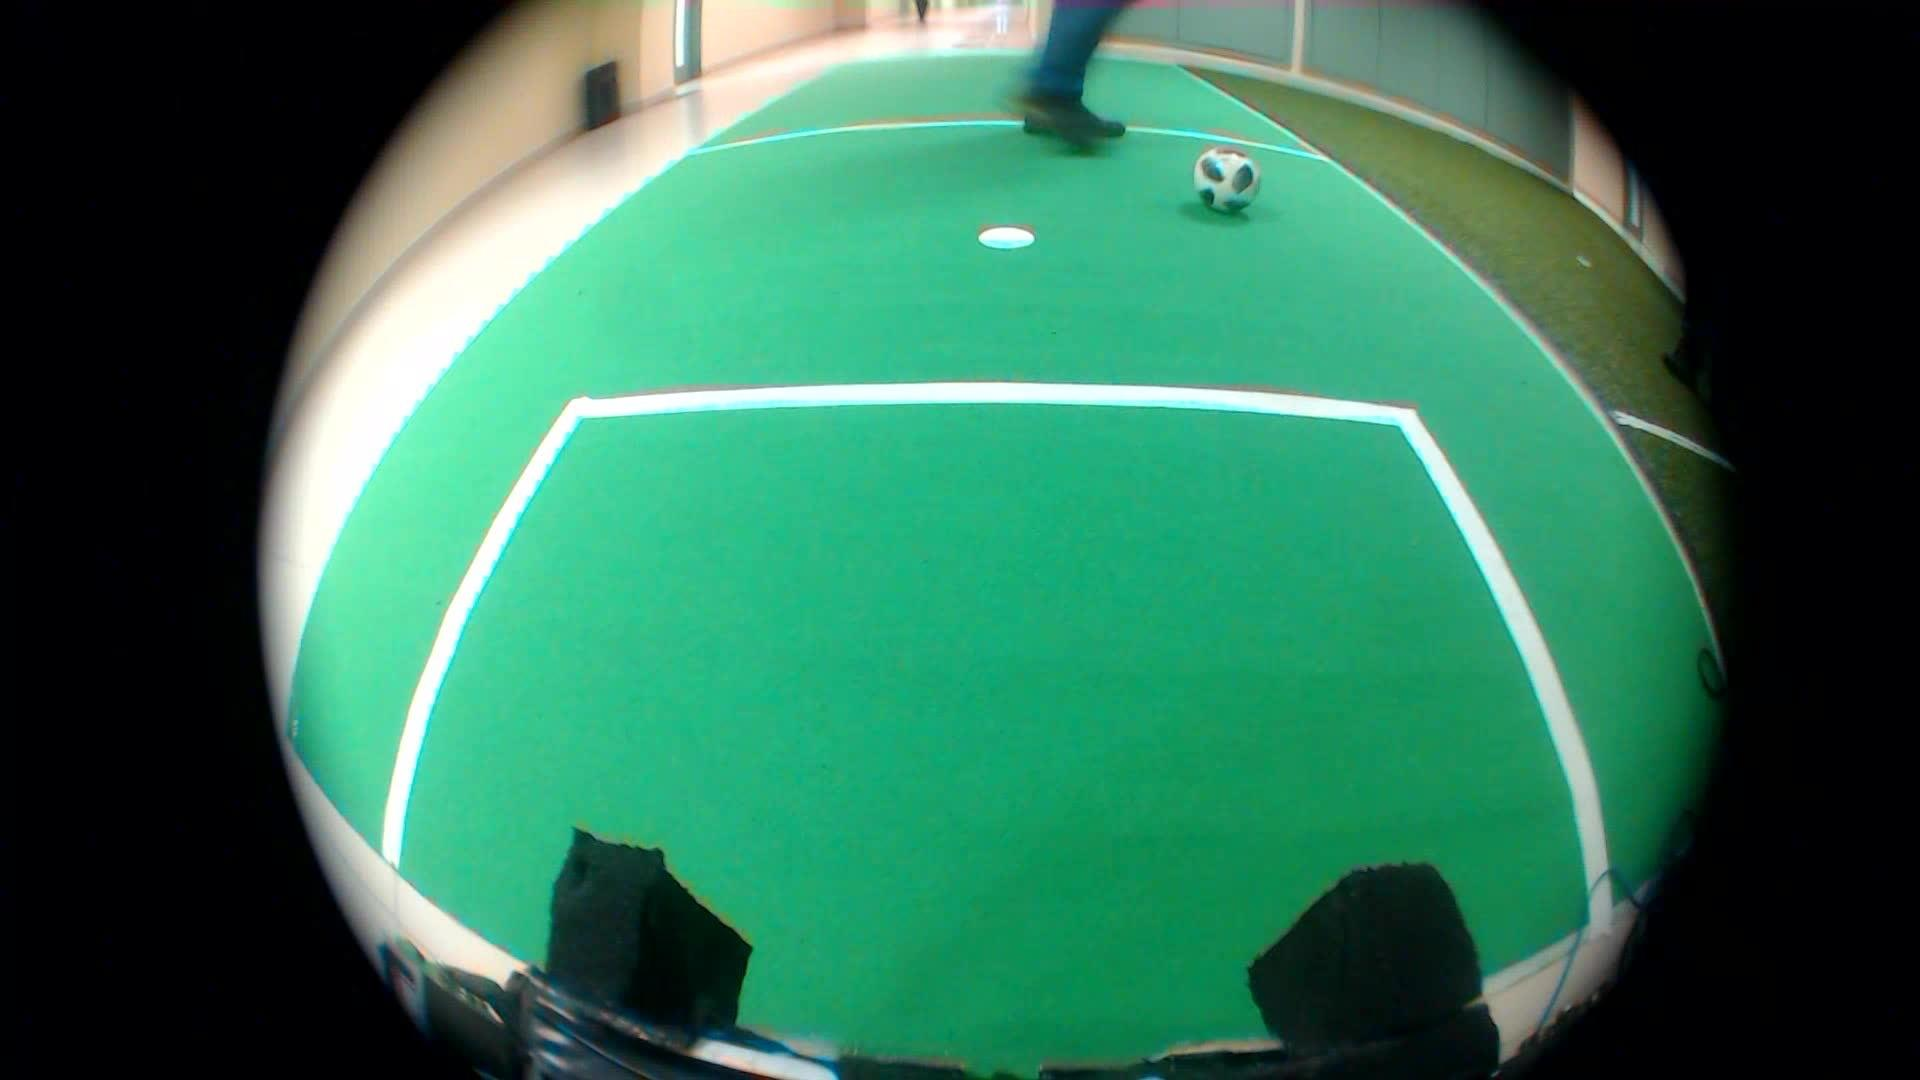ball: (1182, 131, 1261, 219)
